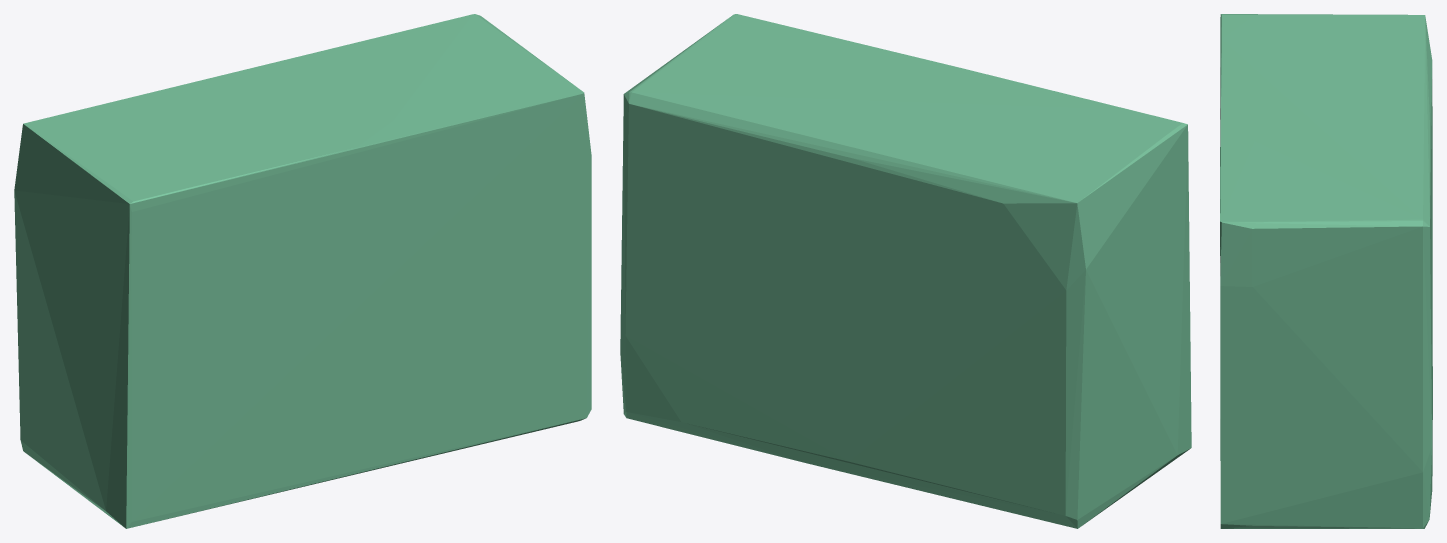
The model's file is crate_blue_a01.glb.
3 renders of one model, left to right at view 1: azimuth 30°, elevation 25°; view 2: azimuth 150°, elevation 25°; view 3: azimuth 270°, elevation 25°, orthographic. The views are drawn at different scales.
Parts seen in each view (by area): view 1: geometry_0; view 2: geometry_0; view 3: geometry_0.
Part boxes in pixels (x1,y1,x2,y2): geometry_0: (14,14,591,528); geometry_0: (620,14,1191,528); geometry_0: (1220,14,1432,528).
Bounding box in the file's own units: 0.4795 × 0.3214 × 0.2008.
